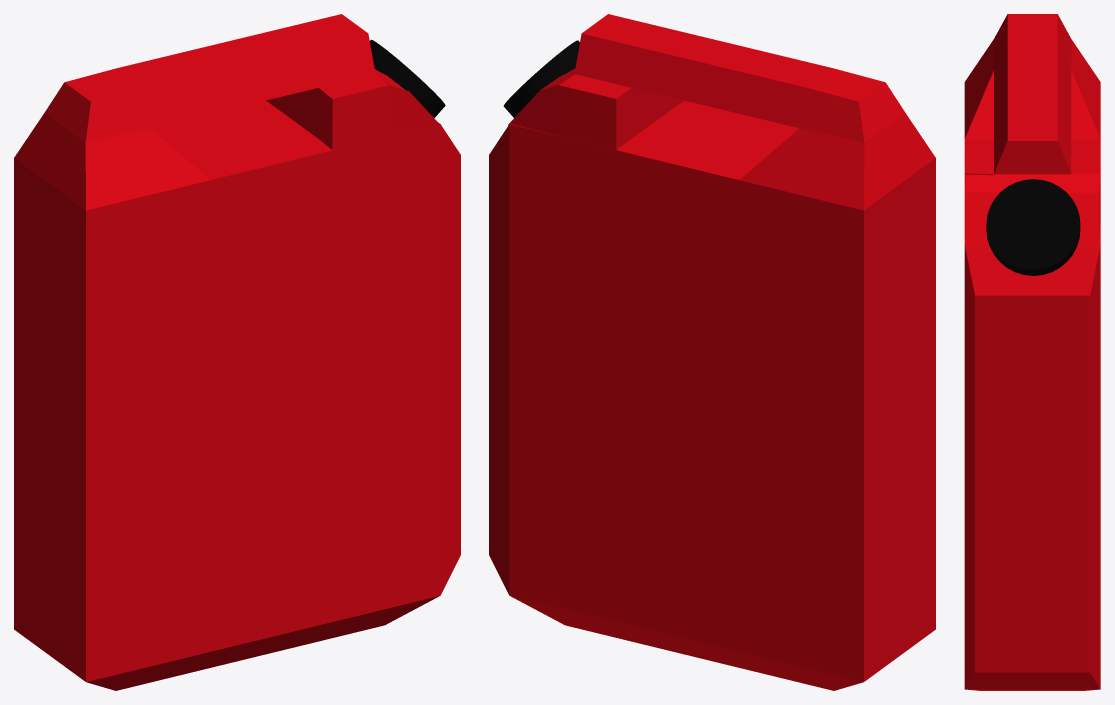
File: gasoline_CanEfe3.glb
3 renders of one model, left to right at view 1: azimuth 30°, elevation 25°; view 2: azimuth 150°, elevation 25°; view 3: azimuth 270°, elevation 25°, orthographic. The views are drawn at different scales.
Visible parts, largest first — view 1: canGasoline; view 2: canGasoline; view 3: canGasoline.
Boxes of the visible parts, x1,y1,x2,y2 form: canGasoline: [14, 14, 460, 690]; canGasoline: [489, 14, 935, 690]; canGasoline: [964, 14, 1100, 690].
Size of the model in its own units: 25.32 by 36.49 by 8.19.
